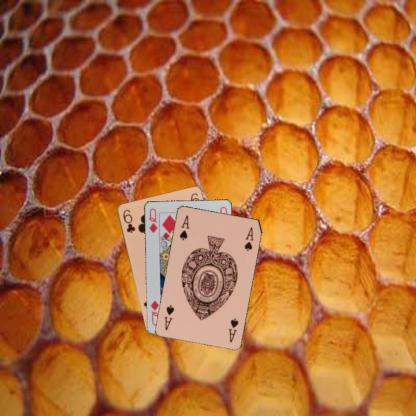6c: (121, 206, 136, 234)
As: (225, 315, 240, 344), (176, 212, 190, 242)
Qd: (146, 206, 158, 235)
